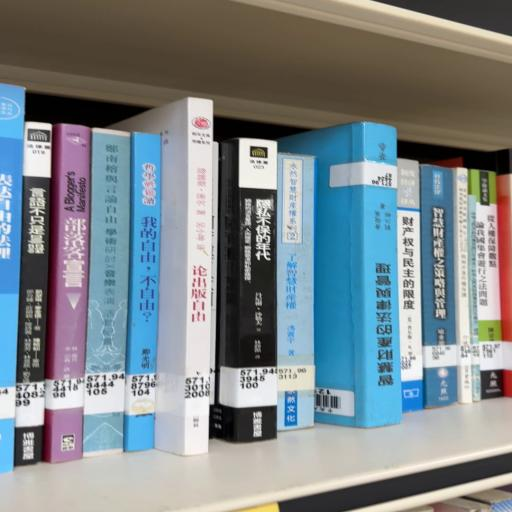reverse: (278, 122, 402, 428)
